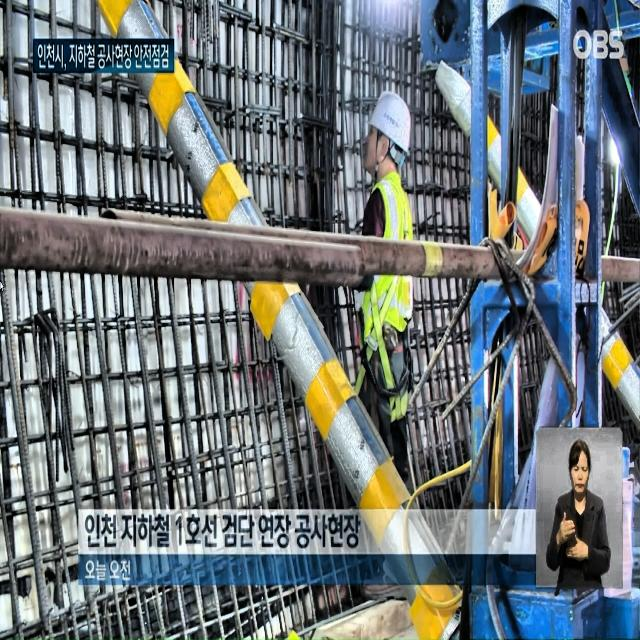safety_helmet: (362, 89, 414, 159)
safety_jacket: (358, 177, 414, 340)
